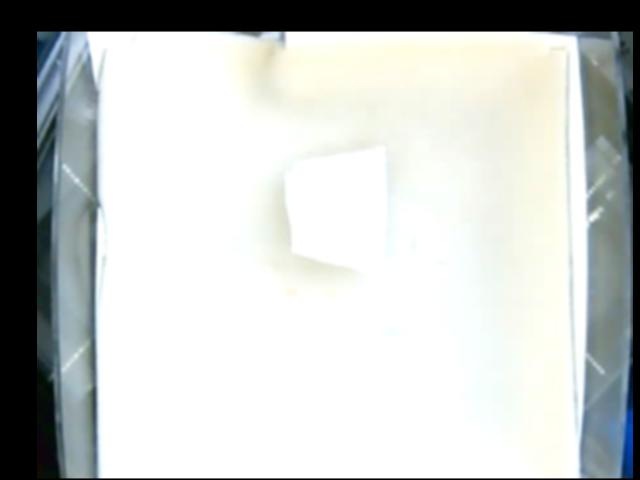Cup: (286, 143, 389, 272)
